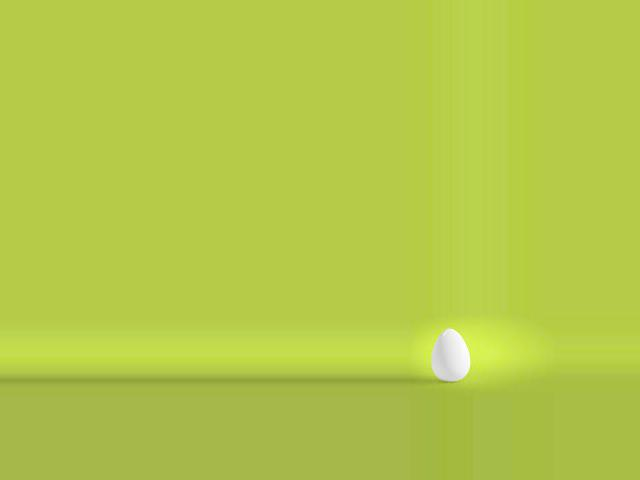egg: (431, 328, 469, 381)
